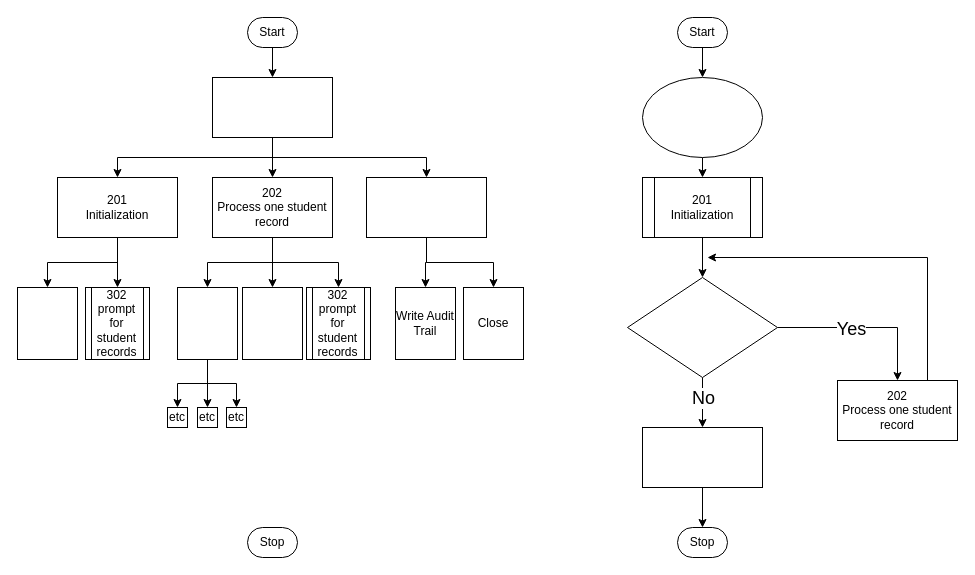
Image size: 975x575. Some labels were removed from this diagram. The centre of each missing label's shape, as x and y in pixels:
"100 Create Student Reg. File" belongs at (272,107).
"100 Create Student Reg.File" belongs at (702,117).
"203 Termination" belongs at (702,457).
"203 Termination Close Student Reg File" belongs at (426,207).
"301 Open student reg file" belongs at (47,323).
"303 prompt for student fields" belongs at (207,323).
"304 write student reg record" belongs at (272,323).
"More records = 'Y'?" belongs at (702,327).
